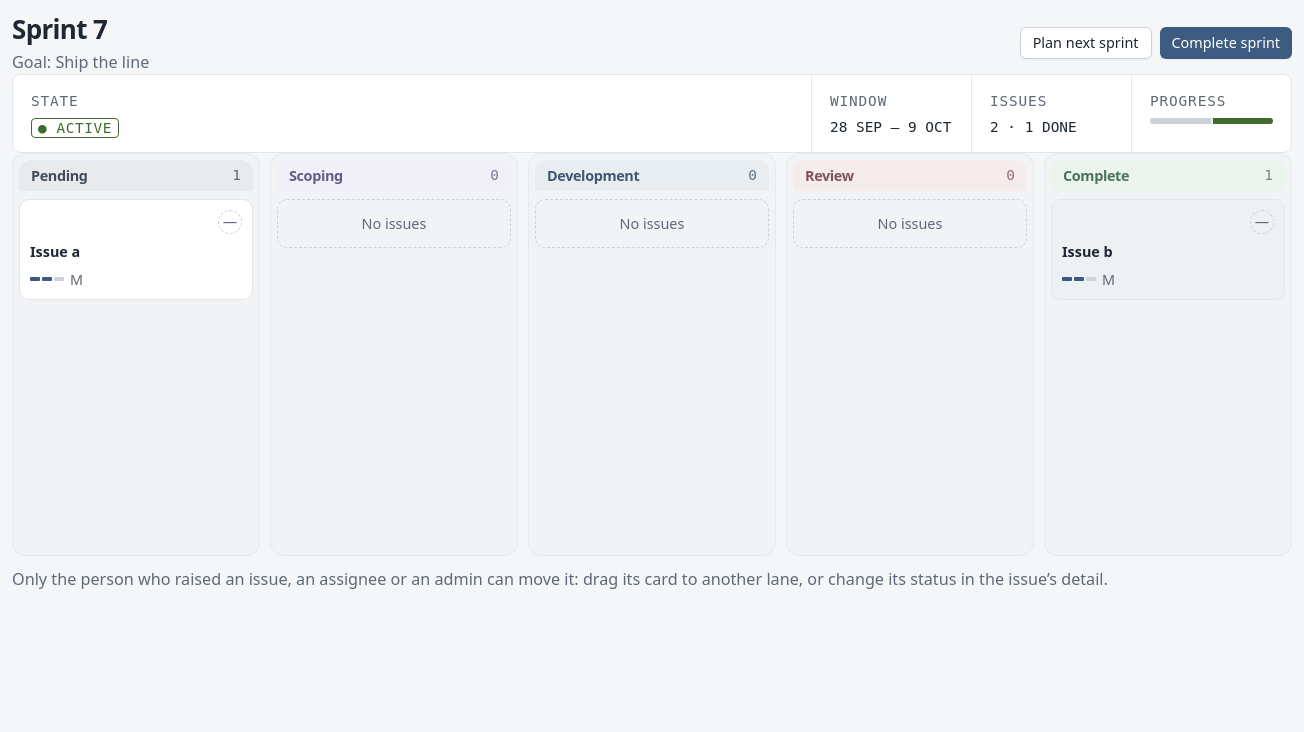
Test case: Add New Sprint › refuses an end before the start
This screenshot has width=1304, height=732.
Click the button "Plan next sprint" at (1086, 43), box [1020,27,1152,59]
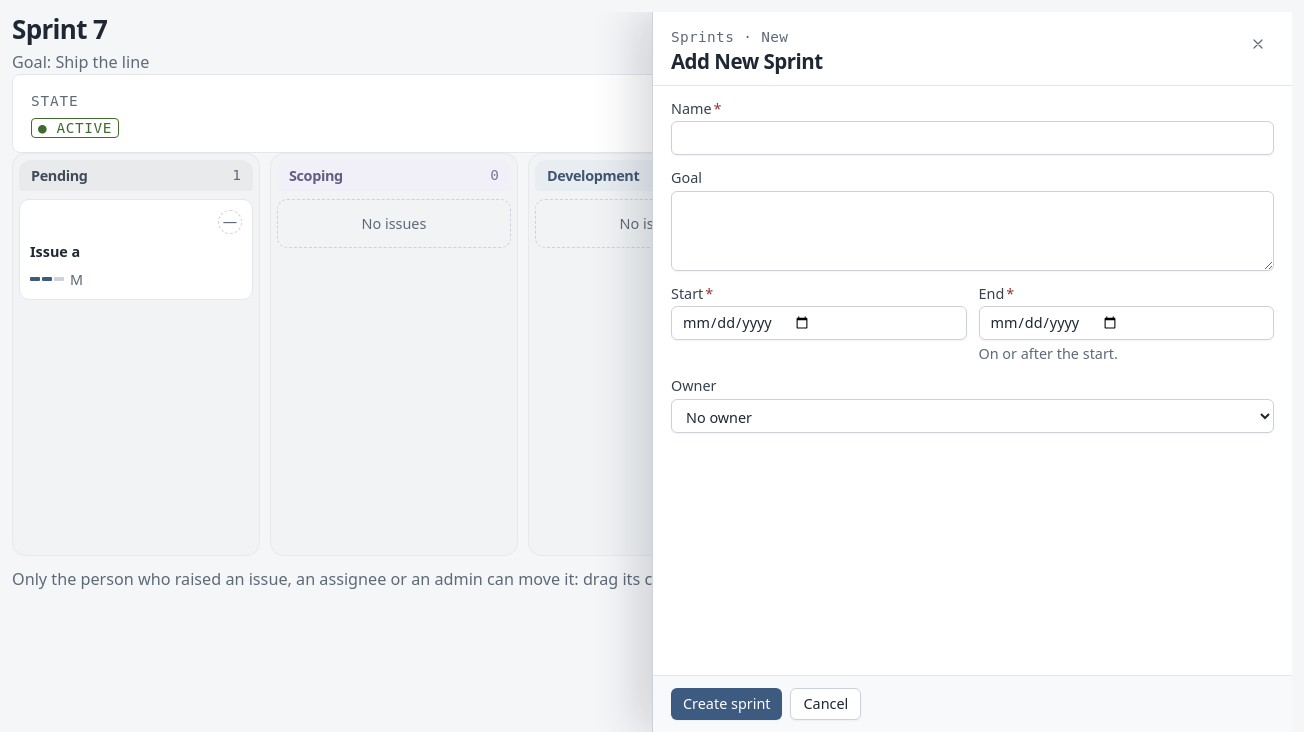
Type "Sprint 8" into the field labelled "Name*" at (972, 138), box [671,121,1274,155]
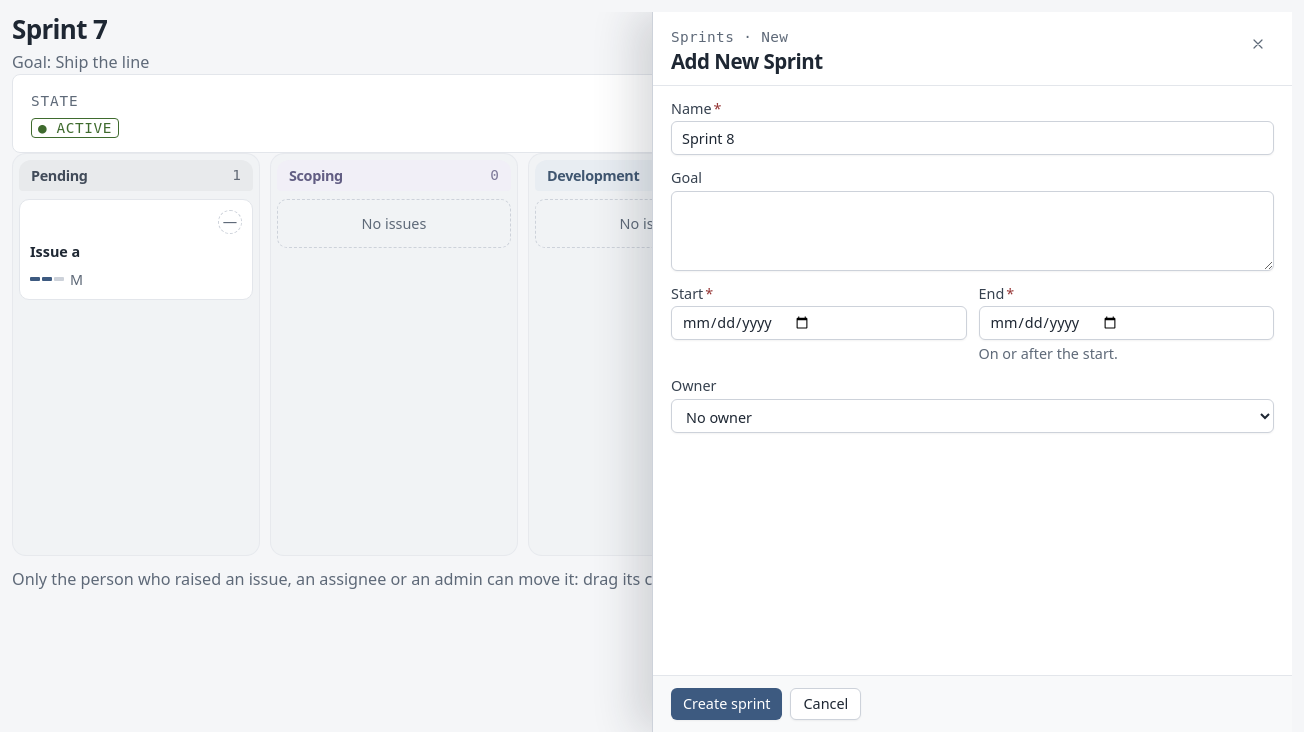
Type "2026-10-12" into the date field labelled "Start*" at (819, 323), box [671,306,966,340]
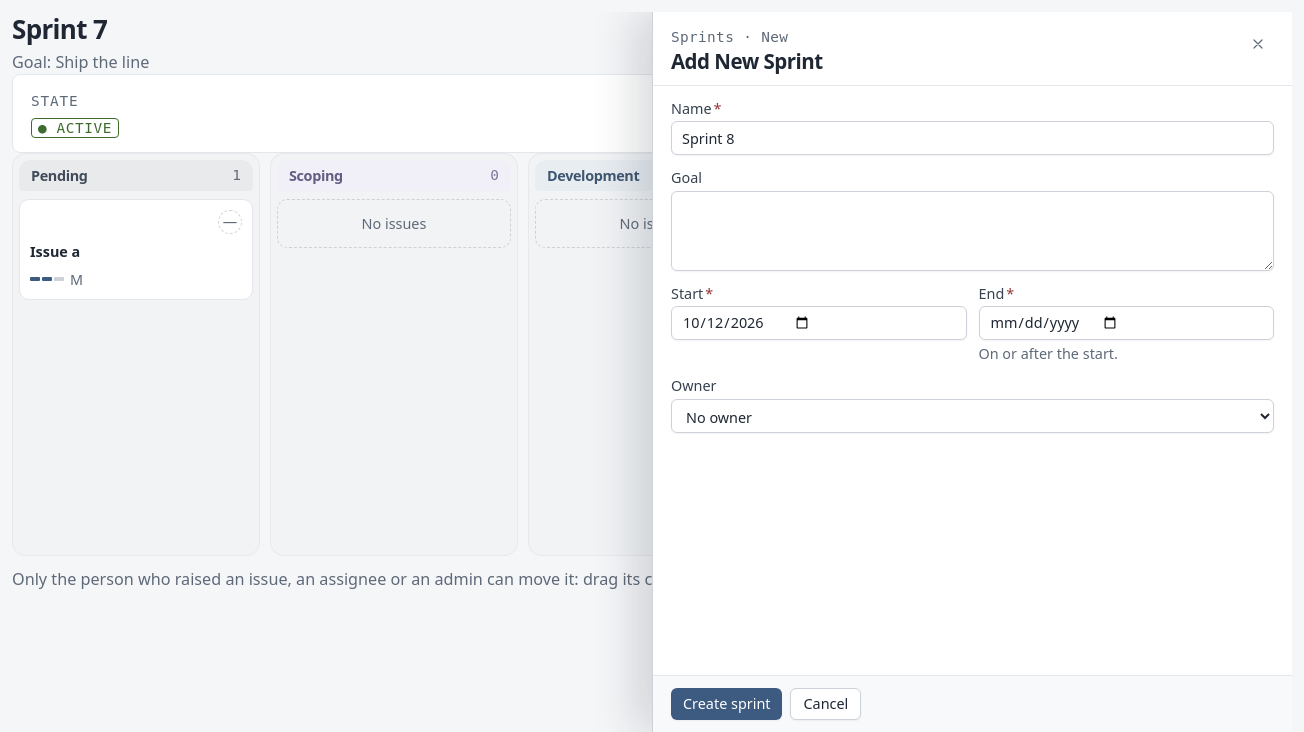
Type "2026-10-11" into the date field labelled "End*" at (1126, 323), box [978,306,1274,340]
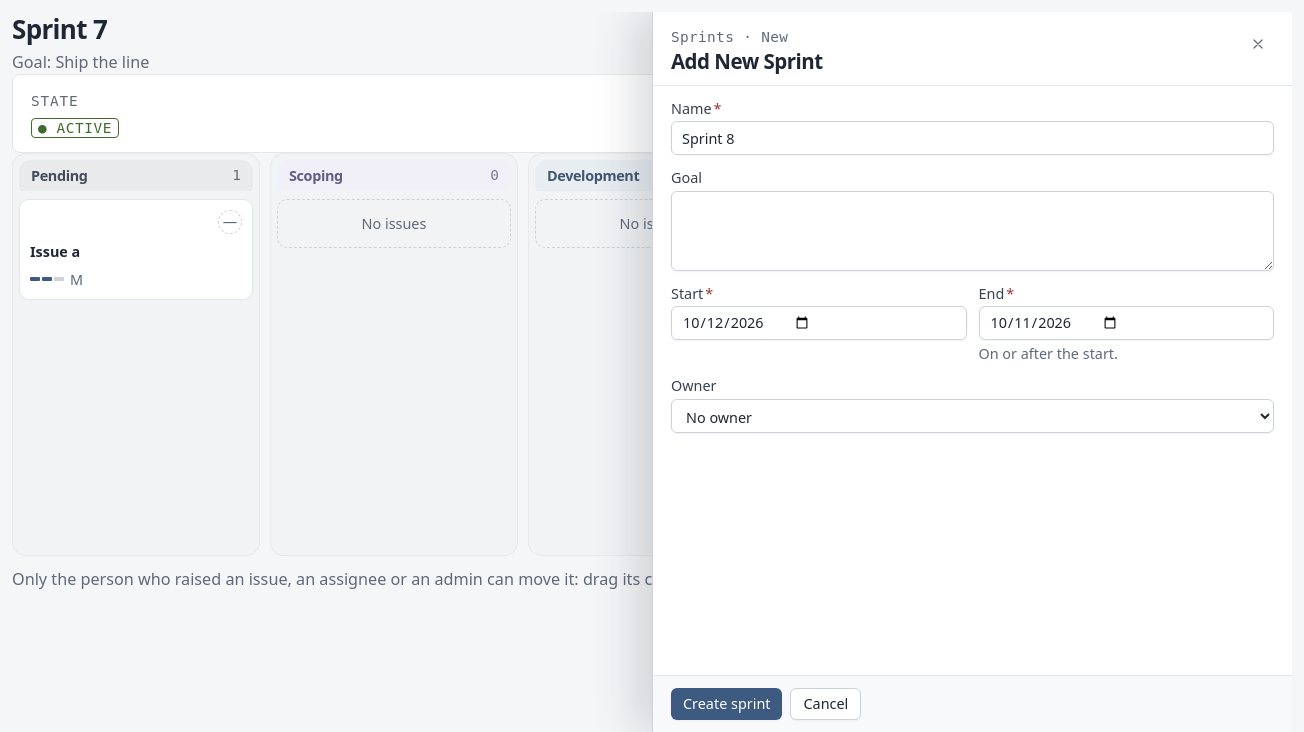
Click the button "Create sprint" at (727, 704), box [671,688,782,720]
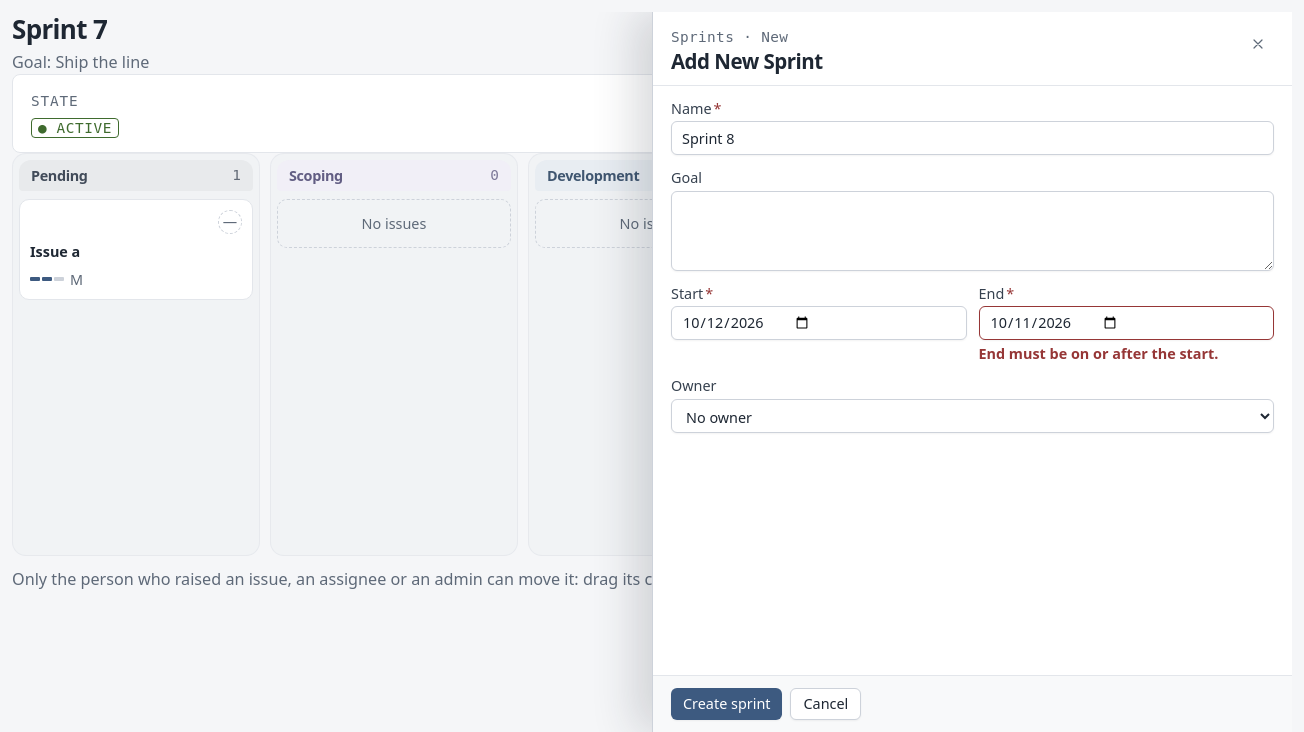
Expected: the text "End must be on or after the start." is shown, [978,344,1218,363]
